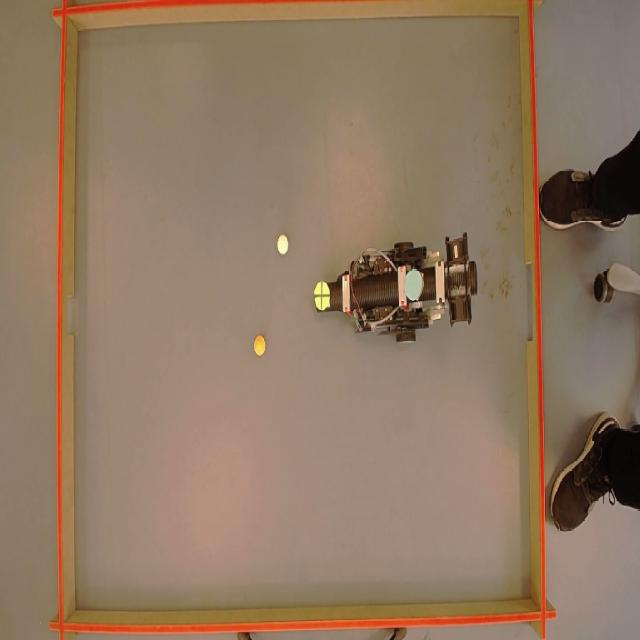orange: (253, 334, 268, 356)
robot: (318, 241, 482, 348)
robot-front: (314, 280, 330, 312)
robot-rear: (403, 264, 422, 300)
white: (275, 234, 288, 254)
